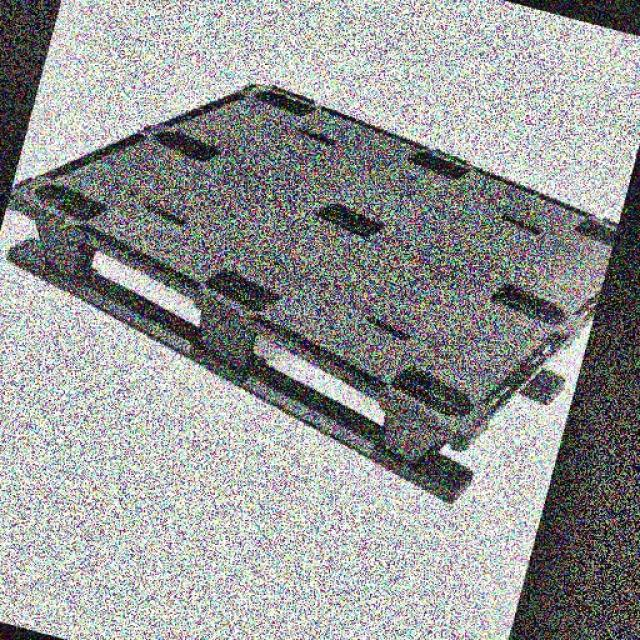non-igps: (0, 79, 623, 508)
